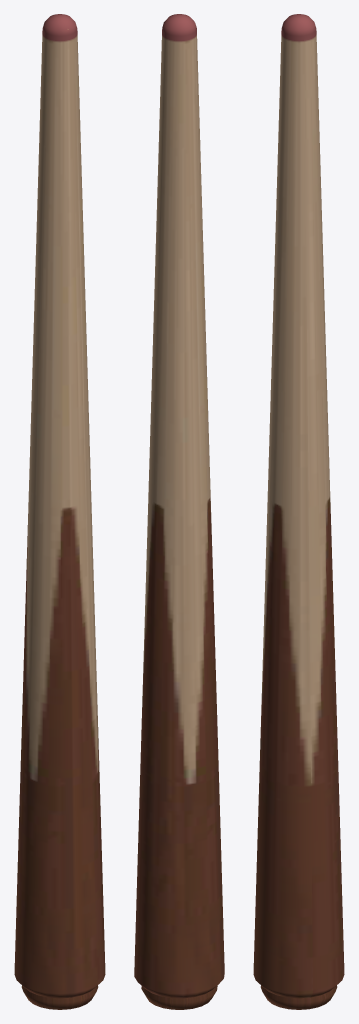
File: 0-poolstick_brown.fbx
The picture shows the model from 3 angles, left to right: view 1: azimuth 90°, elevation 25°; view 2: azimuth 150°, elevation 25°; view 3: azimuth 270°, elevation 25°; orthographic projection.
Visible parts, largest first — view 1: 0-poolstick_brown; view 2: 0-poolstick_brown; view 3: 0-poolstick_brown.
Boxes of the visible parts, bbox=[...] form: 0-poolstick_brown: bbox=[14, 14, 105, 1009]; 0-poolstick_brown: bbox=[134, 14, 224, 1009]; 0-poolstick_brown: bbox=[253, 14, 344, 1009].
Bounding box in the file's own units: 8.54 × 102 × 8.54.
